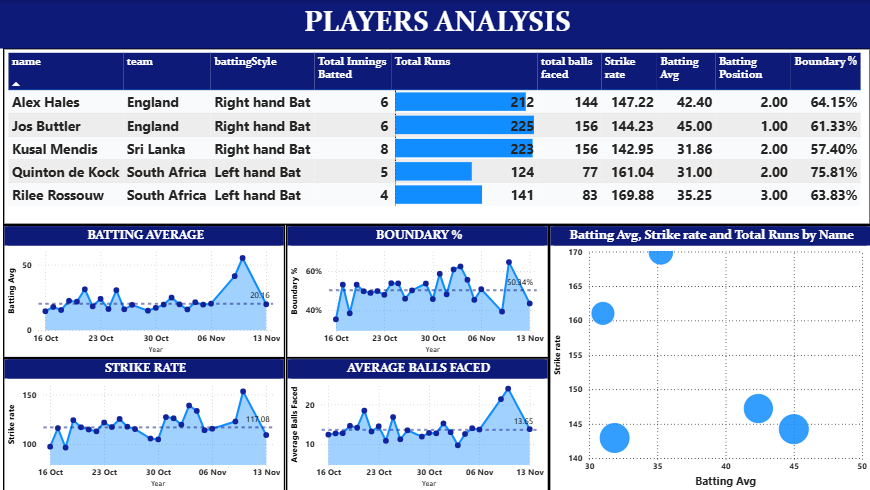

The dashboard page shown, as its layout file describes it:
{"tool":"powerbi","page":{"name":"Page 1","canvas":[1280,720],"ordinal":0},"visuals":[{"type":"tableEx","fields":{"Values":["dim_players.name","dim_players.team","dim_players.battingStyle","Key_Measures.Total Innings Batted","Key_Measures.Total Runs","Key_Measures.total balls faced","Key_Measures.Strike rate","Key_Measures.Batting Avg","Key_Measures.Batting Position","Key_Measures.Boundary %"]},"box":[5,70.6,1269.9,258.7],"z":0},{"type":"areaChart","title":"BATTING AVERAGE","fields":{"Y":["Key_Measures.Batting Avg"],"Category":["dim_match_summary.matchDate.Variation.Date Hierarchy.Year","dim_match_summary.matchDate.Variation.Date Hierarchy.Quarter","dim_match_summary.matchDate.Variation.Date Hierarchy.Month","dim_match_summary.matchDate.Variation.Date Hierarchy.Day"]},"box":[5,329.2,413.2,194.9],"z":1000},{"type":"areaChart","title":"AVERAGE BALLS FACED","fields":{"Category":["dim_match_summary.matchDate.Variation.Date Hierarchy.Year","dim_match_summary.matchDate.Variation.Date Hierarchy.Quarter","dim_match_summary.matchDate.Variation.Date Hierarchy.Month","dim_match_summary.matchDate.Variation.Date Hierarchy.Day"],"Y":["Key_Measures.Average Balls Faced"]},"box":[418.3,524.1,384.7,196.5],"z":2000},{"type":"areaChart","title":"STRIKE RATE","fields":{"Category":["dim_match_summary.matchDate.Variation.Date Hierarchy.Year","dim_match_summary.matchDate.Variation.Date Hierarchy.Quarter","dim_match_summary.matchDate.Variation.Date Hierarchy.Month","dim_match_summary.matchDate.Variation.Date Hierarchy.Day"],"Y":["Key_Measures.Strike rate"]},"box":[5,524.1,413.2,196.5],"z":3000},{"type":"areaChart","title":"BOUNDARY %","fields":{"Category":["dim_match_summary.matchDate.Variation.Date Hierarchy.Year","dim_match_summary.matchDate.Variation.Date Hierarchy.Quarter","dim_match_summary.matchDate.Variation.Date Hierarchy.Month","dim_match_summary.matchDate.Variation.Date Hierarchy.Day"],"Y":["Key_Measures.Boundary %"]},"box":[418.3,329.2,384.7,194.9],"z":4000},{"type":"scatterChart","title":"Batting Avg, Strike rate and Total Runs by Name","fields":{"X":["Key_Measures.Batting Avg"],"Category":["dim_players.name"],"Y":["Key_Measures.Strike rate"],"Size":["Key_Measures.Total Runs"]},"box":[802.9,329.2,472,391.4],"z":5000},{"type":"textbox","box":[0,0,1280,70.6],"z":6000}]}

Visuals, with their boxes in screenshot pixels (x1, y1, x2, y2), scaled from the page's 1280x720 canvas onto the 870x490 screenshot:
tableEx - dim_players.name x dim_players.team: 3, 48, 867, 224
"BATTING AVERAGE" areaChart: 3, 224, 284, 357
"AVERAGE BALLS FACED" areaChart: 284, 357, 546, 489
"STRIKE RATE" areaChart: 3, 357, 284, 489
"BOUNDARY %" areaChart: 284, 224, 546, 357
"Batting Avg, Strike rate and Total Runs by Name" scatterChart: 546, 224, 867, 489
textbox: 0, 0, 869, 48
